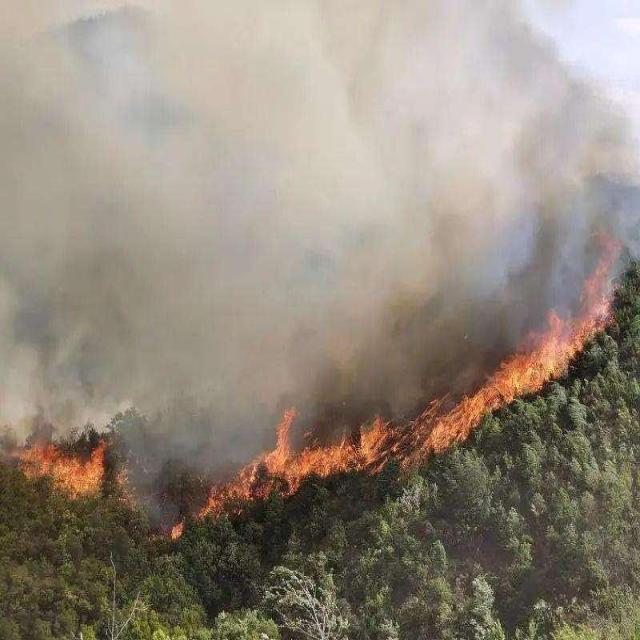fire: (150, 346, 433, 559), (431, 187, 620, 456), (32, 372, 143, 538)
smoke: (5, 2, 532, 340)
